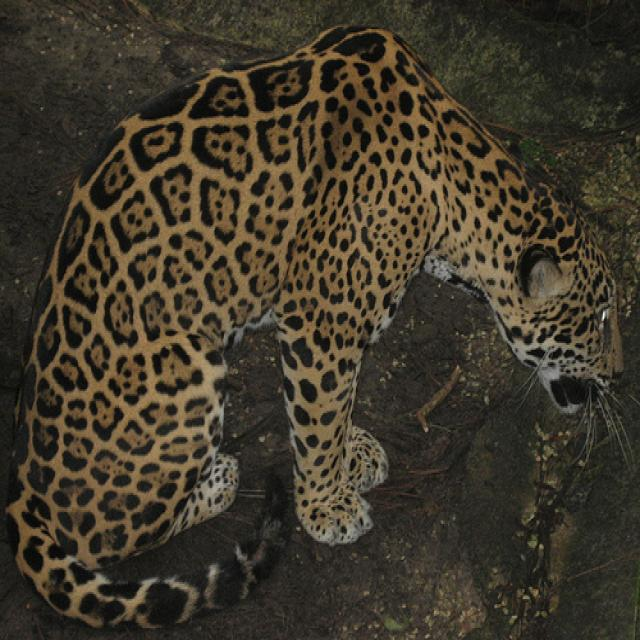Leopard: (2, 19, 628, 633)
